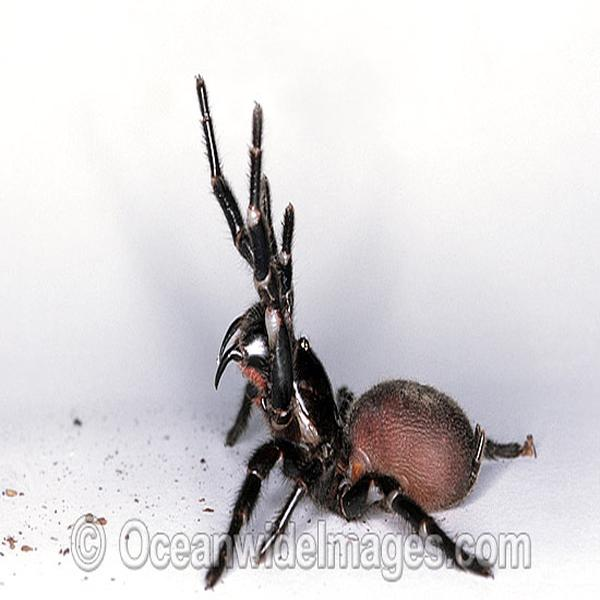Funnel Web Spider: (196, 76, 534, 581)
